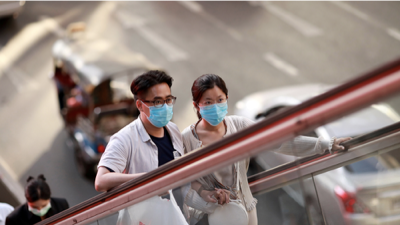with_mask: (143, 93, 175, 126), (198, 97, 229, 125), (28, 201, 52, 216)
